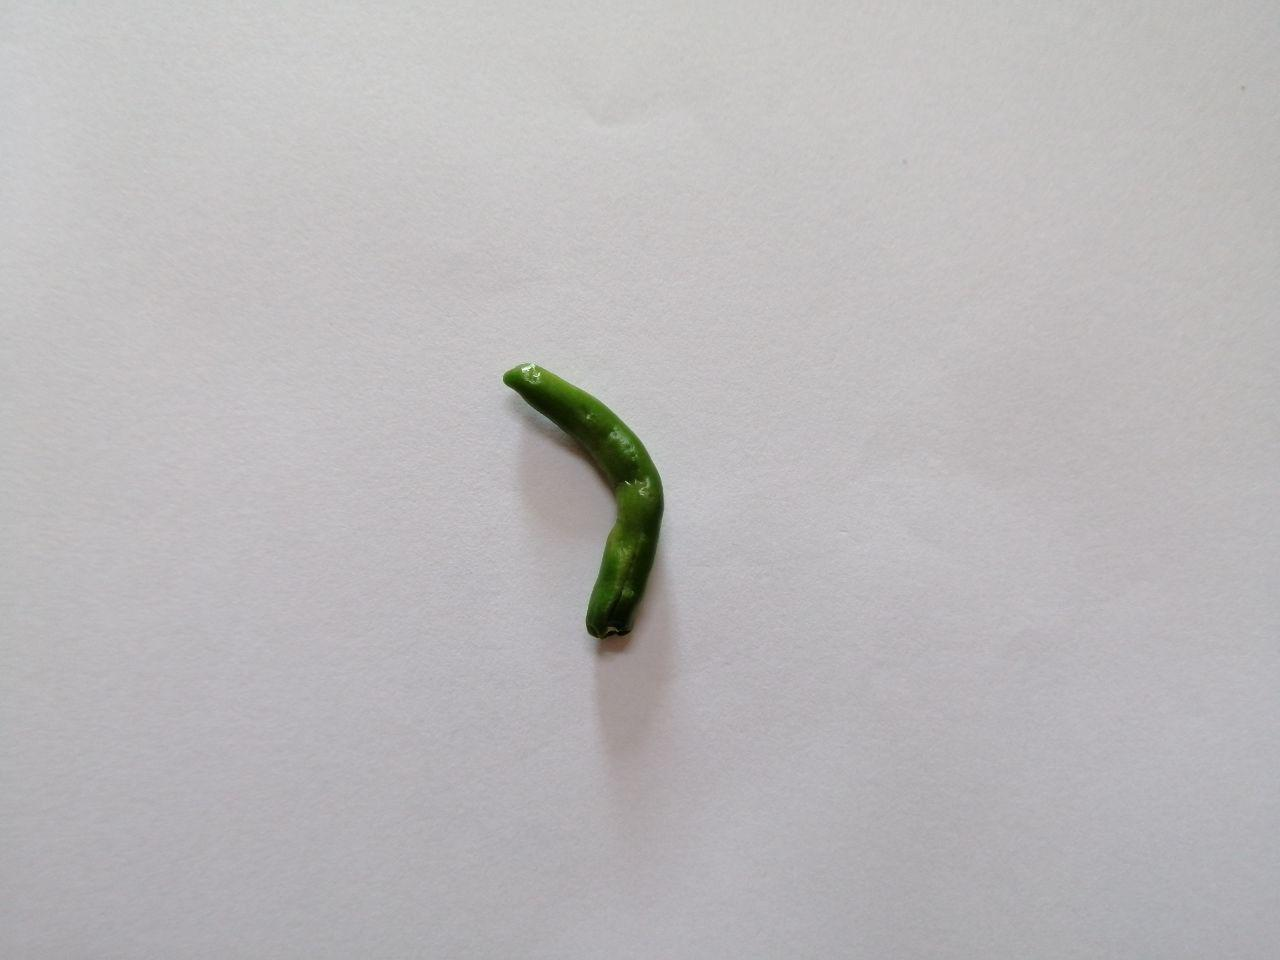lada hijau: (485, 350, 719, 697)
